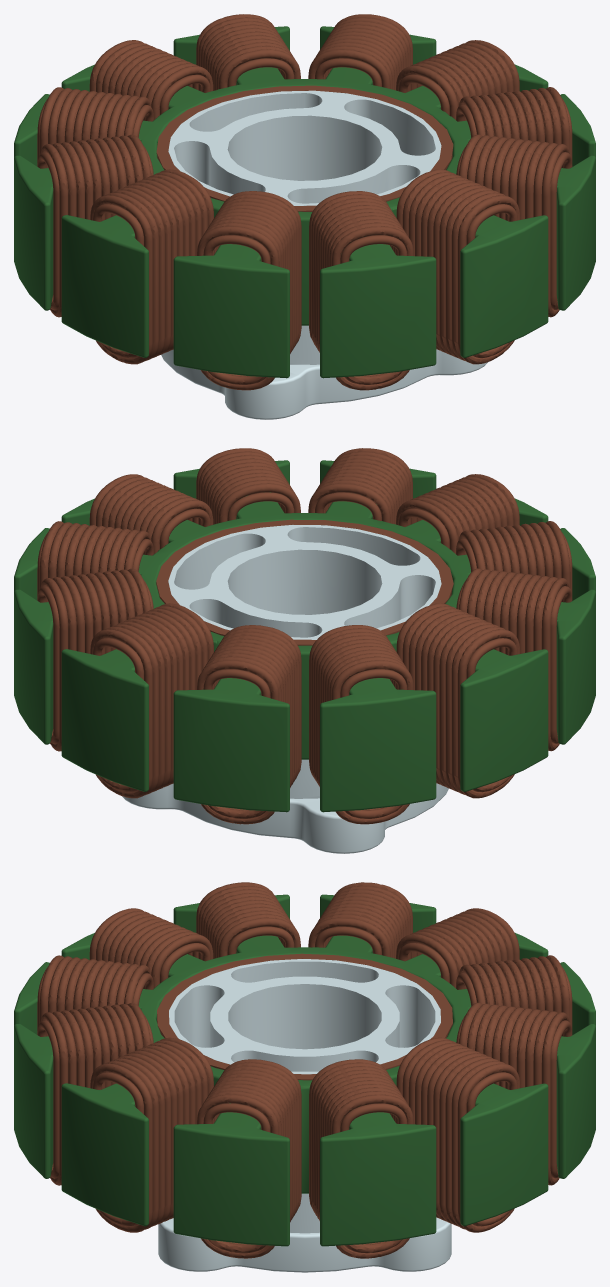
Rendered from stator.glb.
3 views of the same model, one above another, from view 1: azimuth 30°, elevation 25°; view 2: azimuth 150°, elevation 25°; view 3: azimuth 270°, elevation 25° (orthographic).
Parts seen in each view (by area): view 1: stator; view 2: stator; view 3: stator.
Boxes of the visible parts, x1=… form: stator: x1=14, y1=14, x2=595, y2=419; stator: x1=14, y1=448, x2=595, y2=853; stator: x1=14, y1=882, x2=595, y2=1272.
Size of the model in its own units: 0.0489 by 0.0215 by 0.0489.
